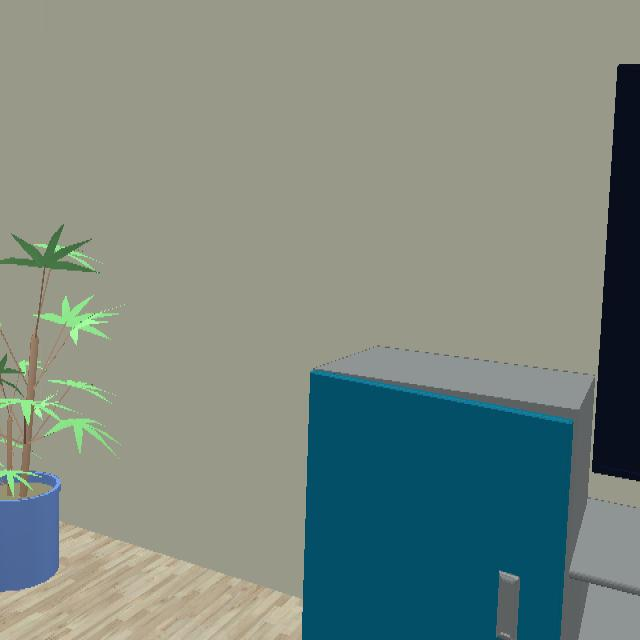cabinet: (304, 347, 593, 638)
monitor: (592, 63, 640, 481)
